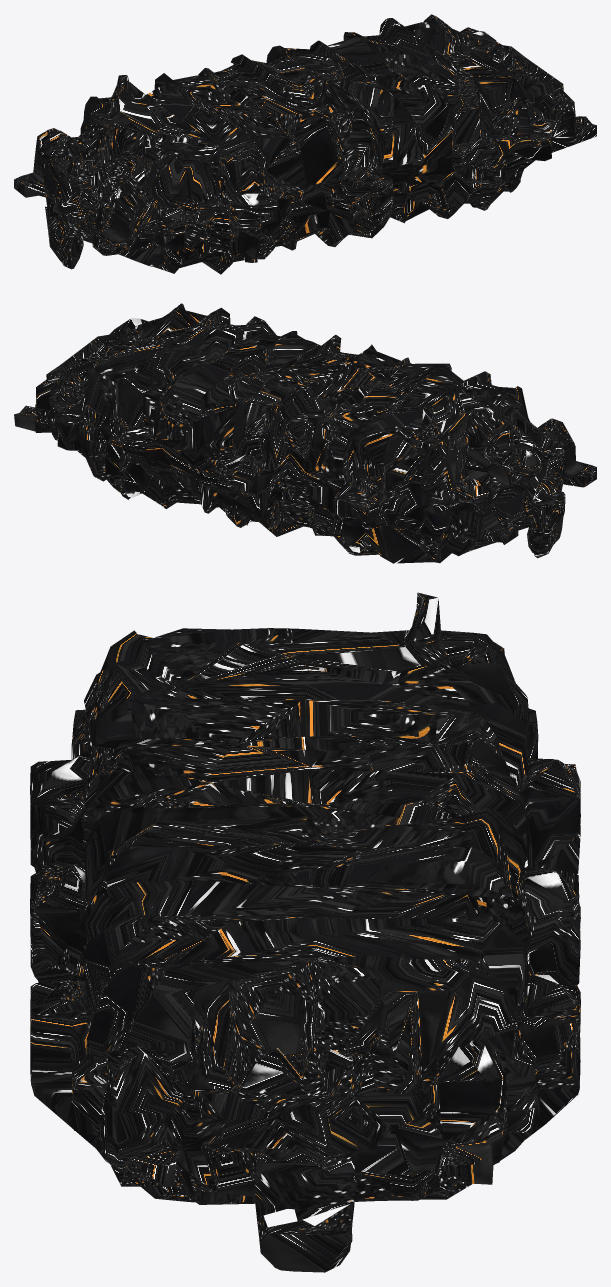
Rendered from inverter-far.glb.
3 renders of one model, top to bottom at view 1: azimuth 30°, elevation 25°; view 2: azimuth 150°, elevation 25°; view 3: azimuth 270°, elevation 25°, orthographic. The views are drawn at different scales.
Bounding box in the file's own units: 1.9 × 0.5494 × 0.9147.
1 material, 1 textured.
